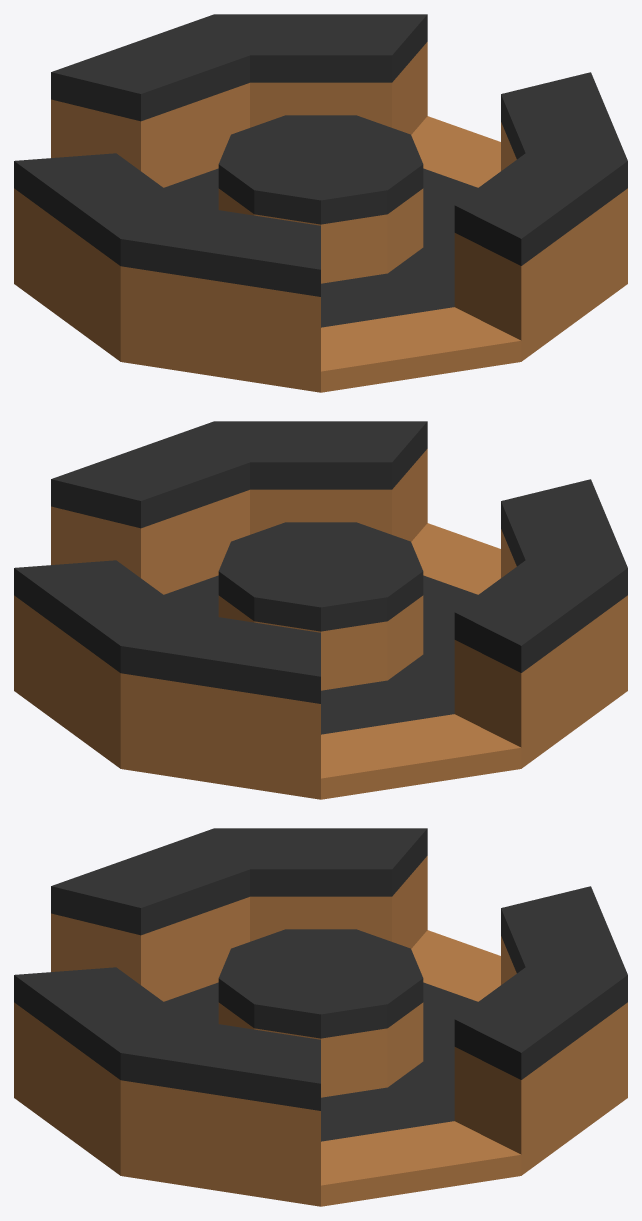
Rendered from civil circle.fbx.
3 renders of one model, top to bottom at view 1: azimuth 30°, elevation 25°; view 2: azimuth 150°, elevation 25°; view 3: azimuth 270°, elevation 25°, orthographic.
Parts seen in each view (by area): view 1: pCylinder1; view 2: pCylinder1; view 3: pCylinder1.
Part boxes in pixels (x1,y1,x2,y2): pCylinder1: (14,14,627,392); pCylinder1: (14,421,627,799); pCylinder1: (14,828,627,1206).
Size of the model in its own units: 1.94 by 0.4354 by 1.97.
